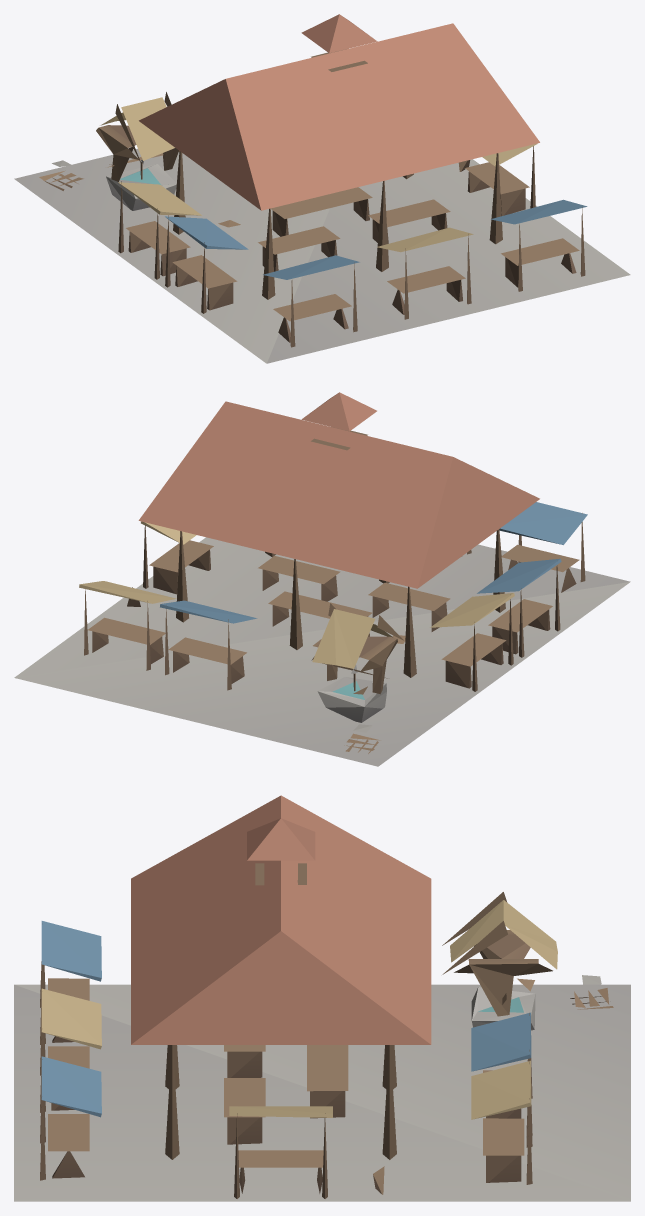
Rendered from market_small.l2.lite.glb.
3 views of the same model, one above another, from view 1: azimuth 30°, elevation 25°; view 2: azimuth 150°, elevation 25°; view 3: azimuth 270°, elevation 25° (orthographic). The views are drawn at different scales.
Parts seen in each view (by area): view 1: market_small; view 2: market_small; view 3: market_small.
Boxes of the visible parts, bbox=[...] form: market_small: bbox=[14, 14, 630, 363]; market_small: bbox=[14, 392, 630, 766]; market_small: bbox=[14, 795, 630, 1201].
Size of the model in its own units: 4.96 by 2.95 by 5.96.
